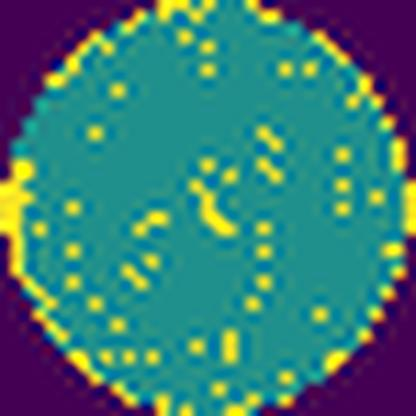Edge-Loc: (0, 154, 72, 342)
